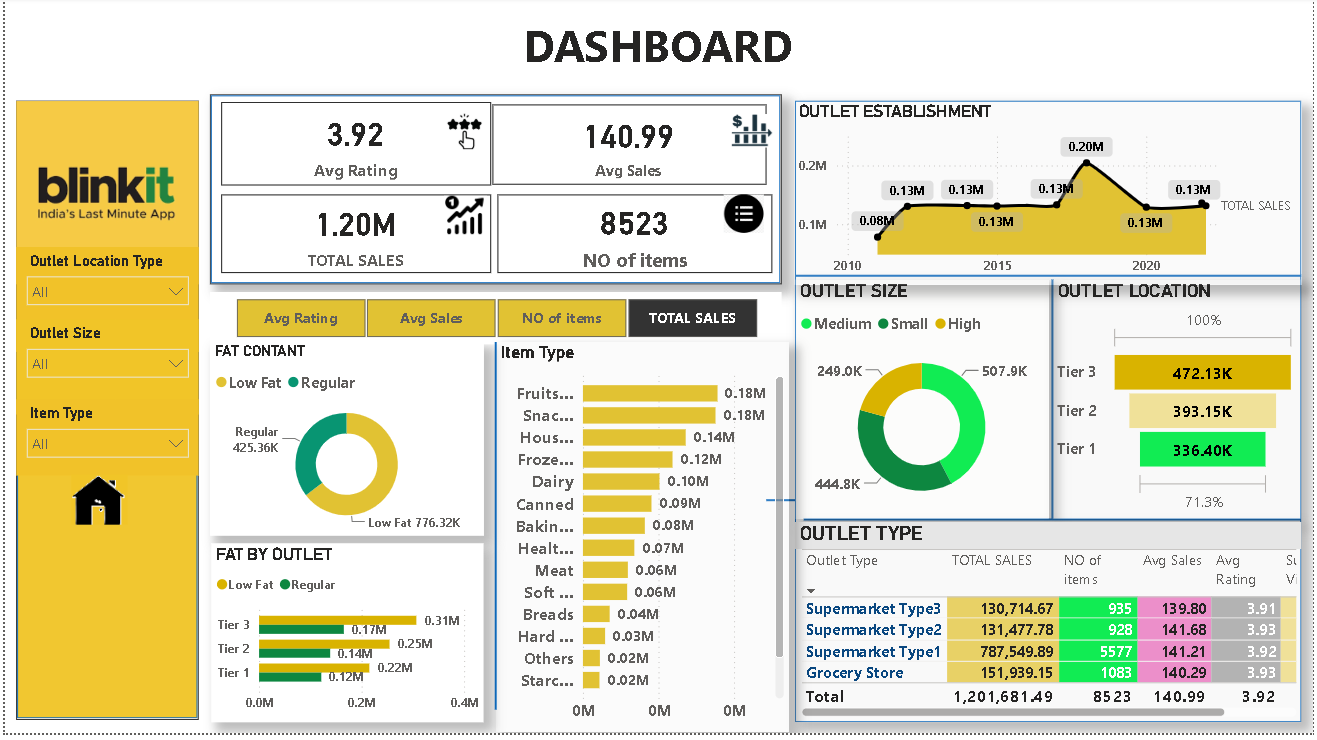

The page's visual inventory and layout, read from the dashboard file:
{"tool":"powerbi","page":{"name":"Page 1","canvas":[1280,720],"ordinal":0},"visuals":[{"type":"card","fields":{"Values":["Table.average of sales"]},"box":[211.3,111.1,248.4,76.8],"z":0},{"type":"donutChart","title":"FAT CONTANT","fields":{"Y":["Table.TOTAL SALES"],"Category":["BlinkIT Grocery Data.Item Fat Content"]},"box":[201.1,337.5,267.6,189.2],"z":1000},{"type":"barChart","title":"ITEM TYPE","fields":{"Category":["BlinkIT Grocery Data.Item Type"],"Y":["Table.sum of sales"]},"box":[829.1,261.7,278.8,359.5],"z":2000},{"type":"clusteredBarChart","title":"FAT BY OUTLET","fields":{"Y":["Table.TOTAL SALES"],"Category":["BlinkIT Grocery Data.Outlet Location Type"],"Series":["BlinkIT Grocery Data.Item Fat Content"]},"box":[201.8,534.4,266.6,174.9],"z":3000},{"type":"textbox","box":[10.2,13.6,1258,66.5],"z":4000},{"type":"shape","box":[11,101.5,178.5,605.3],"z":5000},{"type":"shape","box":[201.1,95.5,559.1,185.8],"z":6000},{"type":"card","fields":{"Values":["Table.sum of sales"]},"box":[211.6,193.2,264.1,77],"z":7000},{"type":"card","fields":{"Values":["Table.average rating"]},"box":[211.4,102.3,264.2,81.8],"z":8000},{"type":"card","fields":{"Values":["Table.average of sales"]},"box":[477.3,105.7,267.6,78.4],"z":9000},{"type":"card","fields":{"Values":["Table.total count of item"]},"box":[481.8,193.2,269,77],"z":10000},{"type":"shape","box":[744.9,308.5,279.6,368.2],"z":11000},{"type":"shape","box":[772.8,101.5,495.2,607.7],"z":12000},{"type":"shape","box":[772.8,95.4,495.2,354.6],"z":13000},{"type":"shape","box":[781.4,326.5,486.7,369.3],"z":14000},{"type":"shape","box":[781.4,276.4,486.7,234.8],"z":15000},{"type":"donutChart","title":"OUTLET SIZE","fields":{"Y":["Table.sum of sales"],"Category":["BlinkIT Grocery Data.Outlet Size"]},"box":[772.8,276.4,248.2,234.8],"z":16000},{"type":"funnel","title":"OUTLET LOCATION","fields":{"Category":["BlinkIT Grocery Data.Outlet Location Type"],"Y":["Table.sum of sales"]},"box":[1024.7,276.4,243.3,234.8],"z":17000},{"type":"tableEx","title":"OUTLET TYPE","fields":{"Values":["BlinkIT Grocery Data.Outlet Type","Table.TOTAL SALES","Table.NUMBER OF ITEMS","Table.AVERAGE SALES","Table.AVERAGE RATINGS","Sum(BlinkIT Grocery Data.Item Visibility)"]},"box":[772.8,513.6,495.2,195.7],"z":18000},{"type":"image","box":[430.4,111.3,37.9,37.9],"z":19000},{"type":"image","box":[425.5,194.4,48.9,37.9],"z":20000},{"type":"image","box":[703.1,193.2,39.1,37.9],"z":21000},{"type":"image","box":[709.2,111.3,41.6,39.1],"z":22000},{"type":"image","box":[11,95.4,178.5,192],"z":23000},{"type":"slicer","fields":{"Values":["BlinkIT Grocery Data.Outlet Location Type"]},"box":[11,244.6,178.5,102.7],"z":24000},{"type":"slicer","fields":{"Values":["BlinkIT Grocery Data.Outlet Size"]},"box":[11,315.5,178.5,92.9],"z":25000},{"type":"slicer","fields":{"Values":["BlinkIT Grocery Data.Item Type"]},"box":[11,393.8,178.5,74.6],"z":26000},{"type":"lineChart","title":"OUTLET ESTABLISHMENT","fields":{"Y":["Table.TOTAL SALES"],"Category":["BlinkIT Grocery Data.Outlet Establishment Year"]},"box":[771.6,101.5,496.5,179.8],"z":27000},{"type":"slicer","fields":{"Values":["Matrix.Matrix"]},"box":[201.1,288.1,559.1,51.1],"z":28000},{"type":"shape","box":[369.9,337.5,221.6,359.7],"z":30000},{"type":"clusteredBarChart","title":" Item Type","fields":{"Y":["Table.TOTAL SALES"],"Category":["BlinkIT Grocery Data.Item Type"]},"box":[480.7,337.5,286.4,381.8],"z":31000},{"type":"image","box":[64.8,461,55,62.4],"z":32000}]}

Visuals, with their boxes in screenshot pixels (x1, y1, x2, y2), scaled from the page's 1280x720 canvas onto the 1317x740 screenshot:
card - Table.average of sales: x1=217, y1=114, x2=473, y2=193
"FAT CONTANT" donutChart: x1=207, y1=347, x2=482, y2=541
"ITEM TYPE" barChart: x1=853, y1=269, x2=1140, y2=638
"FAT BY OUTLET" clusteredBarChart: x1=208, y1=549, x2=482, y2=729
textbox: x1=10, y1=14, x2=1305, y2=82
shape: x1=11, y1=104, x2=195, y2=726
shape: x1=207, y1=98, x2=782, y2=289
card - Table.sum of sales: x1=218, y1=199, x2=489, y2=278
card - Table.average rating: x1=218, y1=105, x2=489, y2=189
card - Table.average of sales: x1=491, y1=109, x2=766, y2=189
card - Table.total count of item: x1=496, y1=199, x2=773, y2=278
shape: x1=766, y1=317, x2=1054, y2=695
shape: x1=795, y1=104, x2=1305, y2=729
shape: x1=795, y1=98, x2=1305, y2=462
shape: x1=804, y1=336, x2=1305, y2=715
shape: x1=804, y1=284, x2=1305, y2=525
"OUTLET SIZE" donutChart: x1=795, y1=284, x2=1051, y2=525
"OUTLET LOCATION" funnel: x1=1054, y1=284, x2=1305, y2=525
"OUTLET TYPE" tableEx: x1=795, y1=528, x2=1305, y2=729
image: x1=443, y1=114, x2=482, y2=153
image: x1=438, y1=200, x2=488, y2=239
image: x1=723, y1=199, x2=764, y2=238
image: x1=730, y1=114, x2=773, y2=155
image: x1=11, y1=98, x2=195, y2=295
slicer - BlinkIT Grocery Data.Outlet Location Type: x1=11, y1=251, x2=195, y2=357
slicer - BlinkIT Grocery Data.Outlet Size: x1=11, y1=324, x2=195, y2=420
slicer - BlinkIT Grocery Data.Item Type: x1=11, y1=405, x2=195, y2=481
"OUTLET ESTABLISHMENT" lineChart: x1=794, y1=104, x2=1305, y2=289
slicer - Matrix.Matrix: x1=207, y1=296, x2=782, y2=349
shape: x1=381, y1=347, x2=609, y2=717
" Item Type" clusteredBarChart: x1=495, y1=347, x2=789, y2=739
image: x1=67, y1=474, x2=123, y2=538
